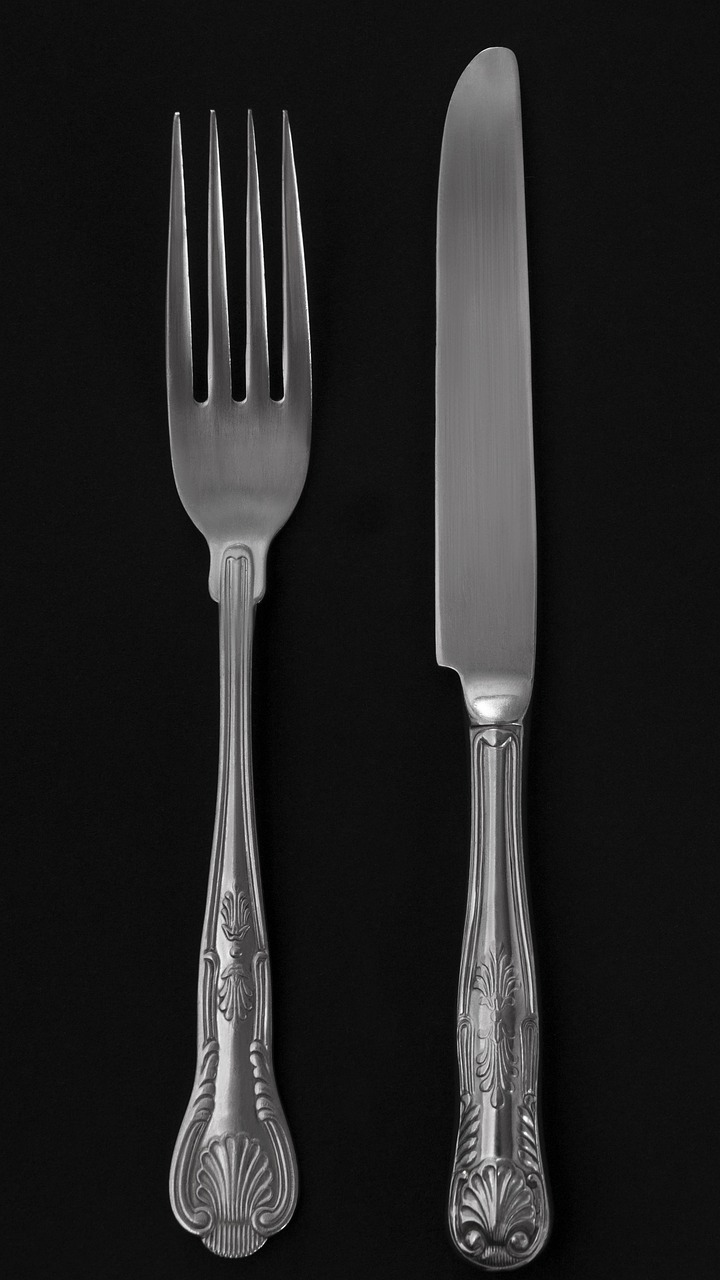knife: (426, 39, 548, 1276)
